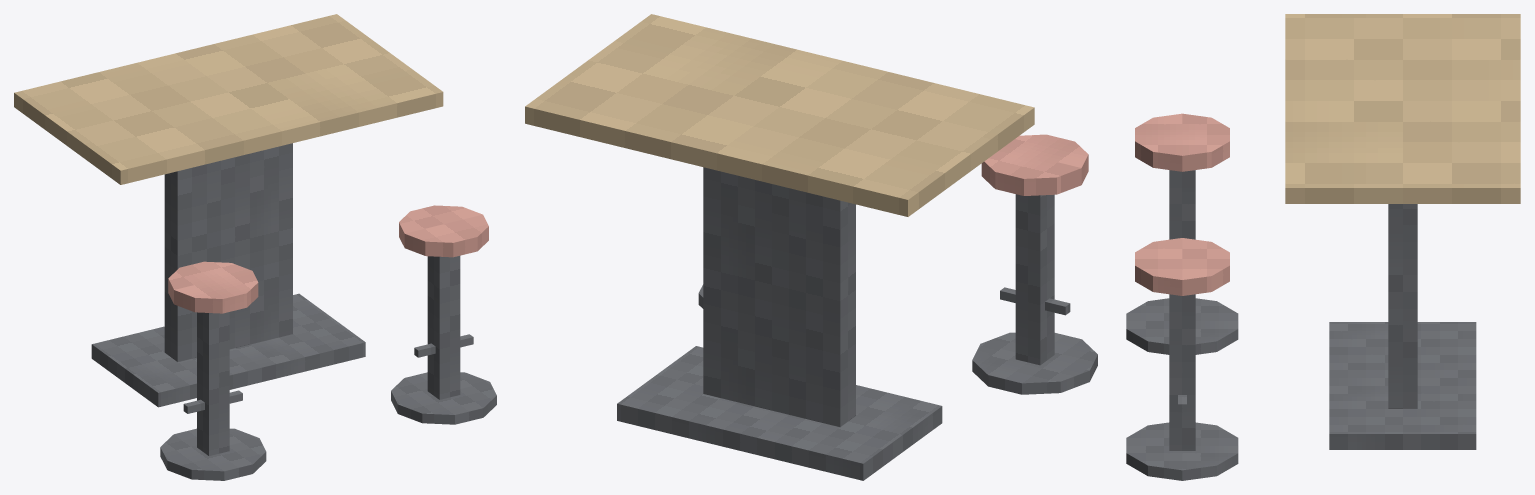
File: pixel-modern-office-high-table-stools-94558dee.glb
3 views of the same model, side by side, from view 1: azimuth 30°, elevation 25°; view 2: azimuth 150°, elevation 25°; view 3: azimuth 270°, elevation 25° (orthographic). The views are drawn at different scales.
Parts seen in each view (by area): view 1: high-table-stools; view 2: high-table-stools; view 3: high-table-stools.
Part boxes in pixels (x1,y1,x2,y2): high-table-stools: (14, 14, 496, 480); high-table-stools: (525, 14, 1097, 480); high-table-stools: (1126, 14, 1520, 480).
Size of the model in its own units: 1.4 by 1.1 by 1.34.
3 materials, 3 textured.
